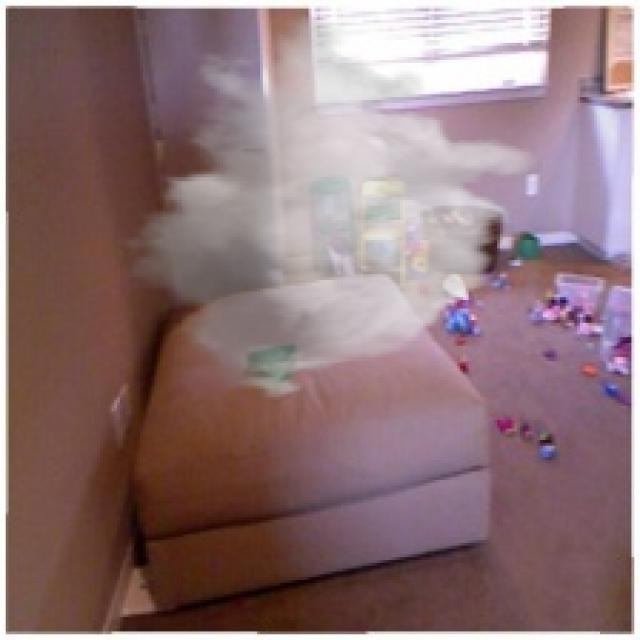smoke: (117, 14, 543, 403)
